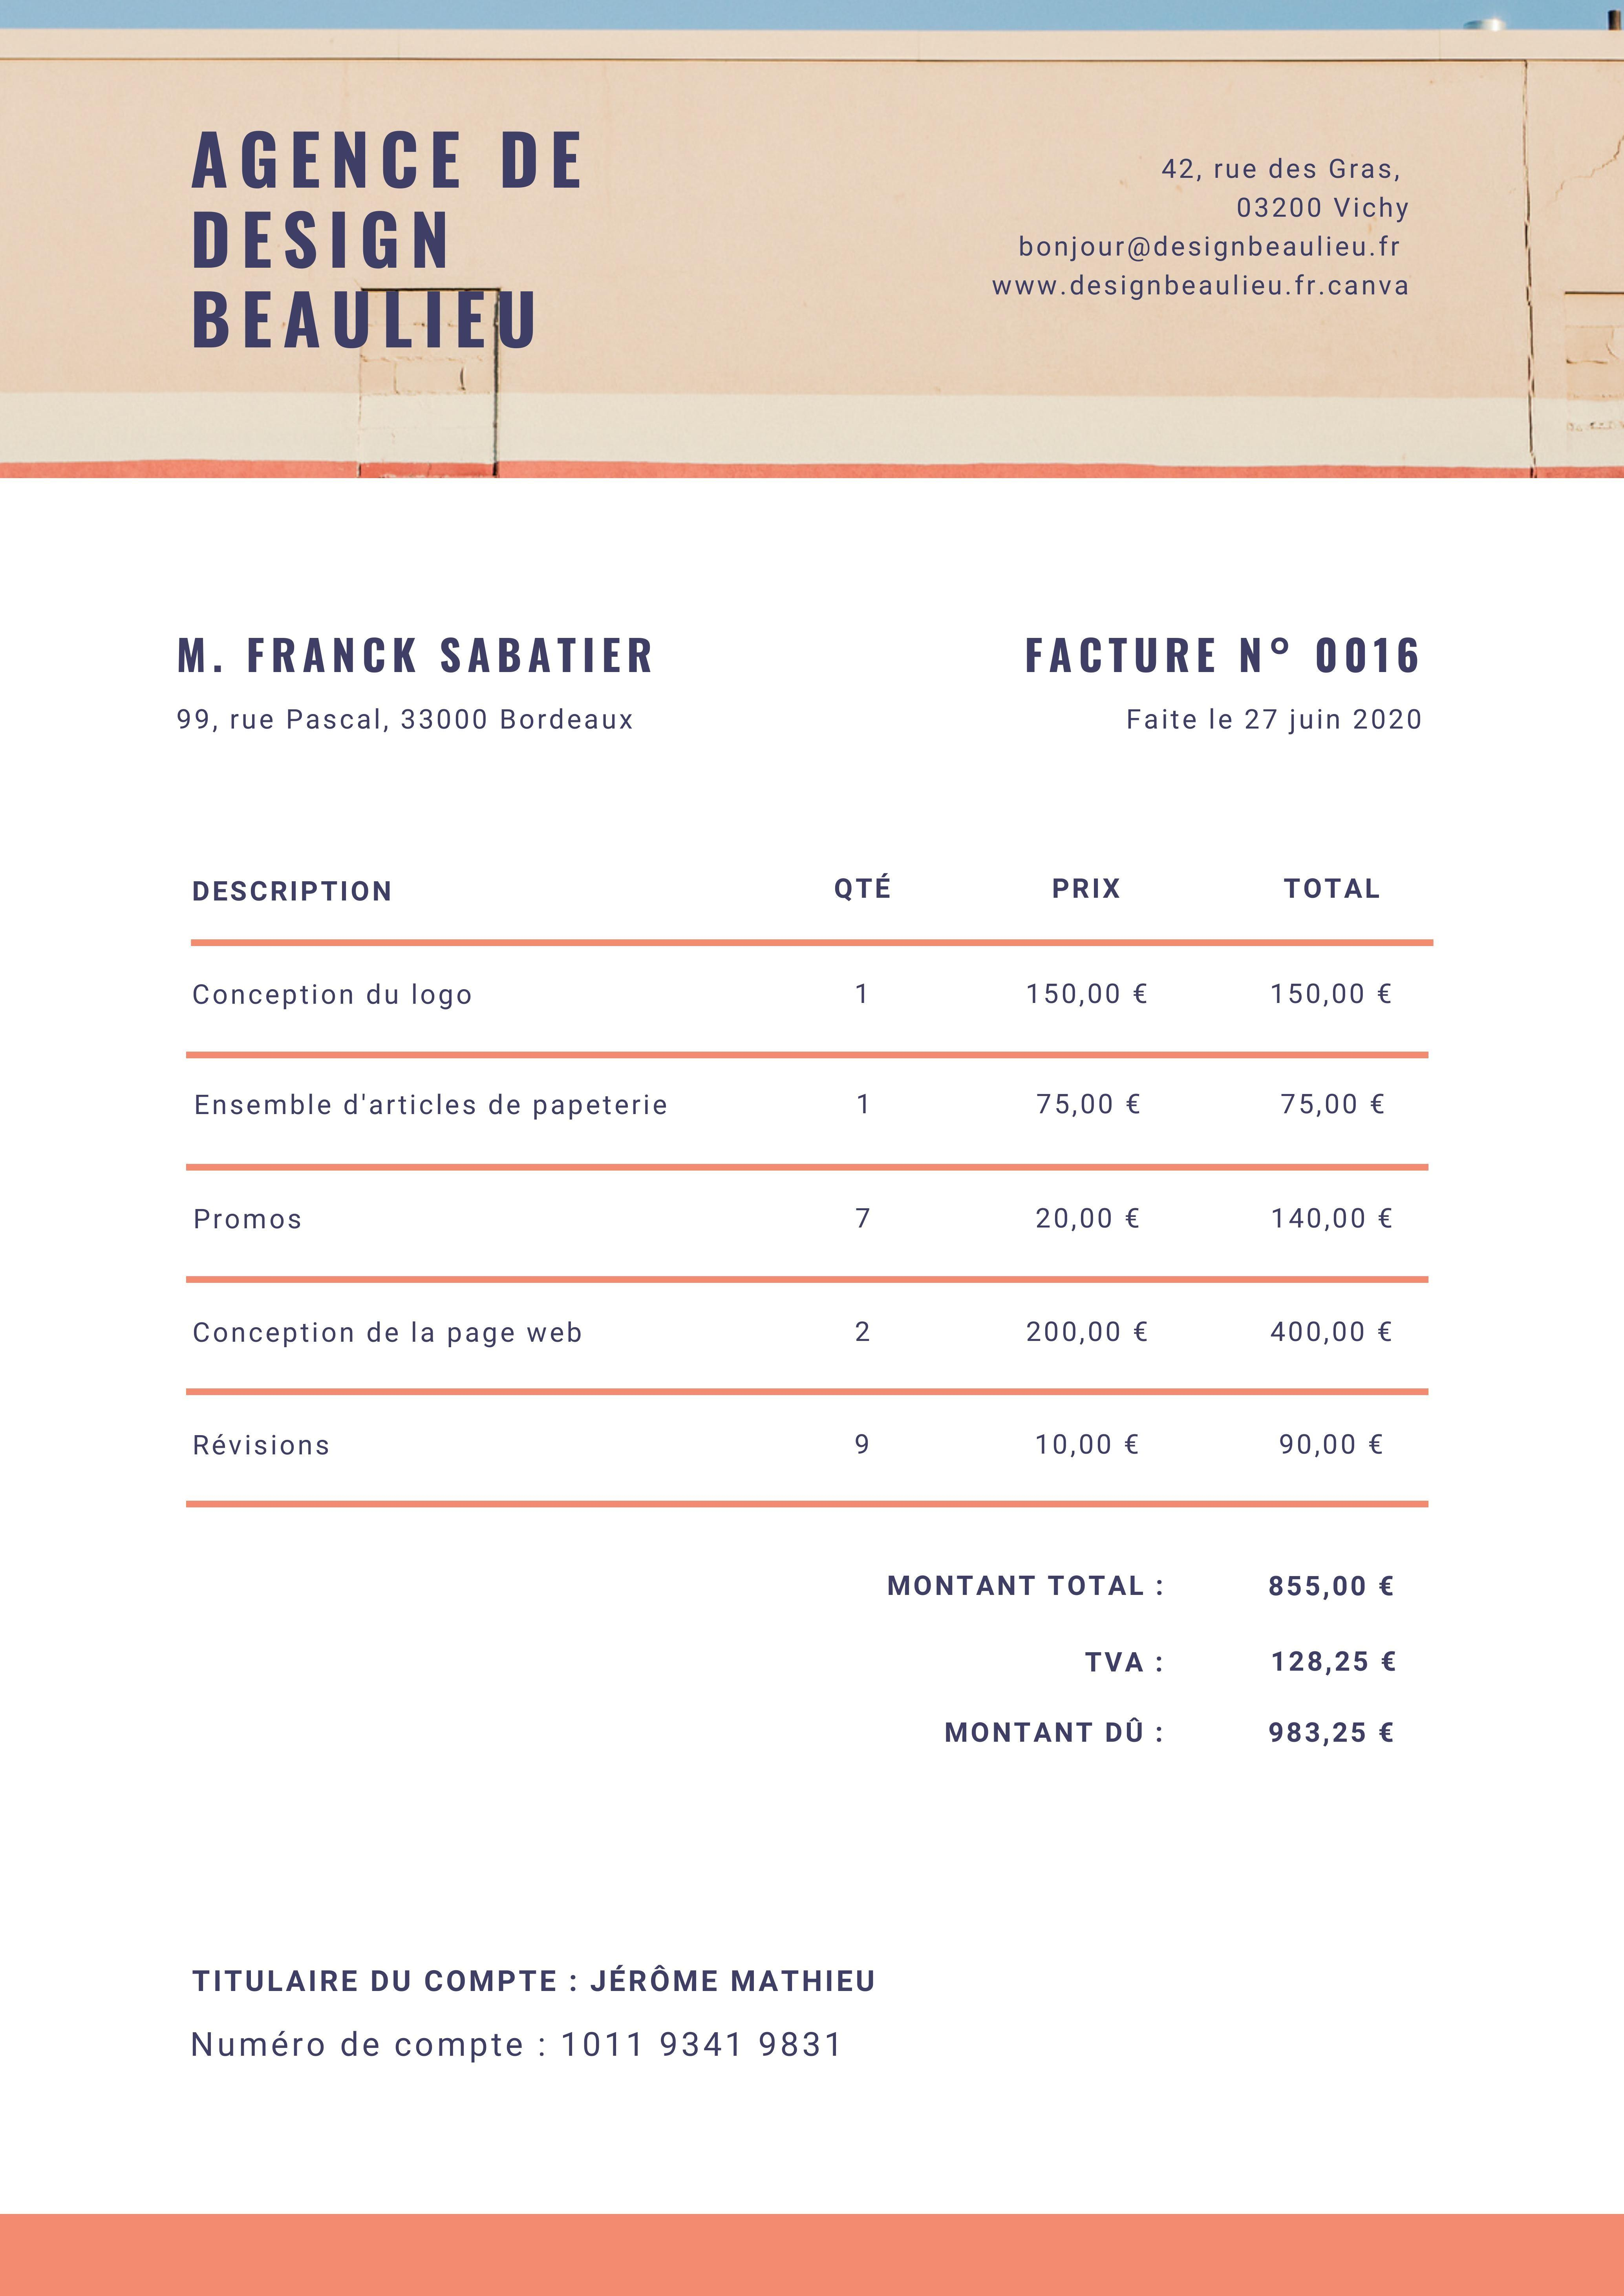ROI: (176, 866, 1425, 1501), (159, 98, 1448, 369), (878, 1547, 1434, 1760), (175, 1954, 902, 2079), (154, 616, 668, 753), (1008, 617, 1447, 753)
